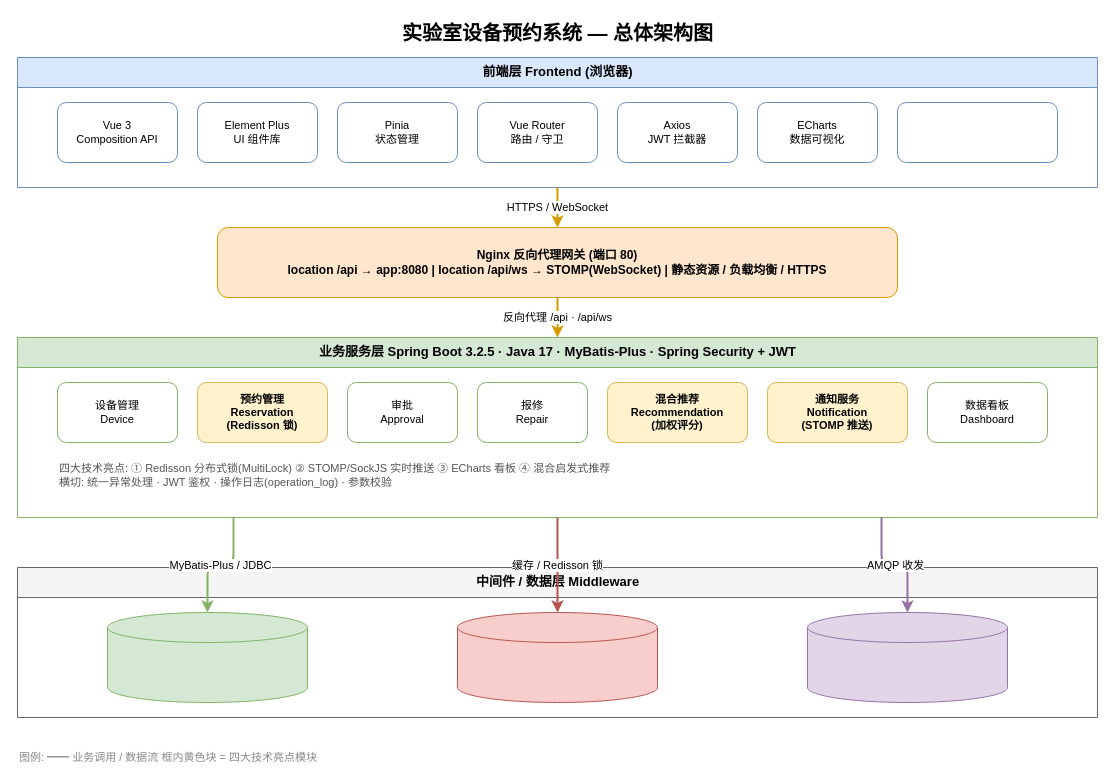
This 1115x784 diagram has some shape labels left out. The shapes that lost their labels are listed below. From the top down, each one's centre as x and y in pixels, then its label:
the point at 977,132: STOMP / SockJS 实时推送客户端
the point at 207,657: MySQL 8.0 持久化存储 (业务表 + 唯一索引)
the point at 557,657: Redis 7 缓存 · 会话 Redisson 分布式锁
the point at 907,657: RabbitMQ 3.13 异步通知解耦 TTL+DLX 延迟队列
